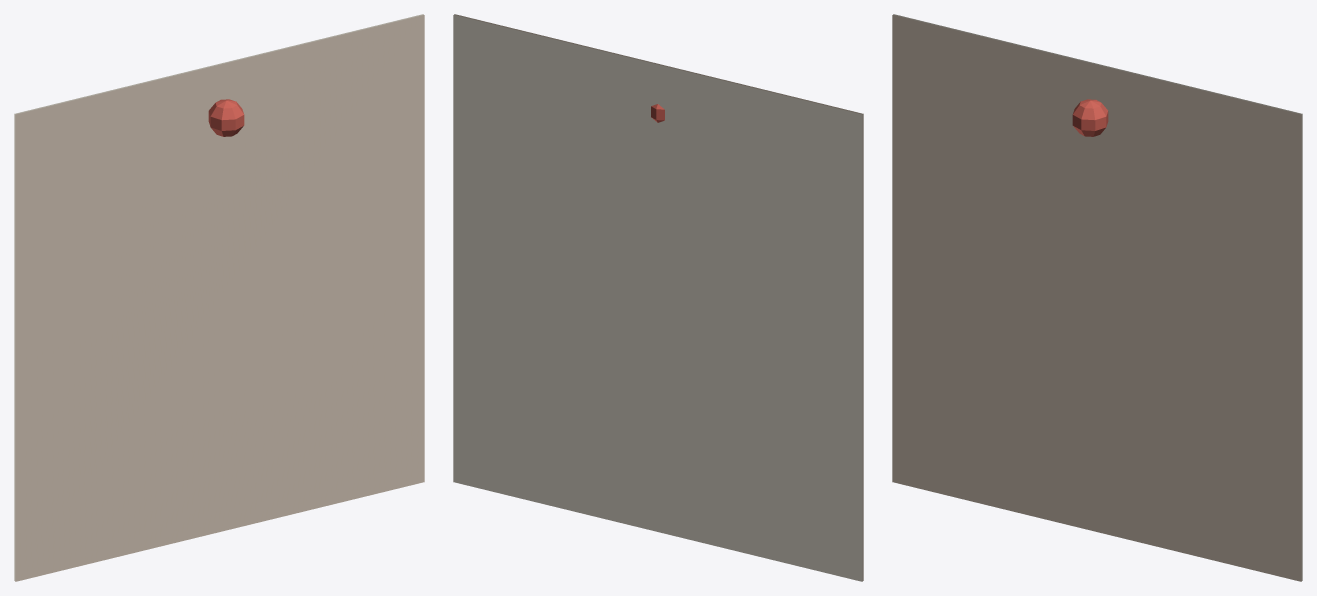
File: Garage_Card_Photo_A.glb
3 views of the same model, side by side, from view 1: azimuth 30°, elevation 25°; view 2: azimuth 150°, elevation 25°; view 3: azimuth 330°, elevation 25° (orthographic).
Parts seen in each view (by area): view 1: Garage_Card_Photo_A; view 2: Garage_Card_Photo_A; view 3: Garage_Card_Photo_A.
Boxes of the visible parts, x1,y1,x2,y2 form: Garage_Card_Photo_A: (14,14,424,581); Garage_Card_Photo_A: (453,14,863,581); Garage_Card_Photo_A: (892,14,1302,581).
Size of the model in its own units: 0.22 by 0.24 by 0.0171.
